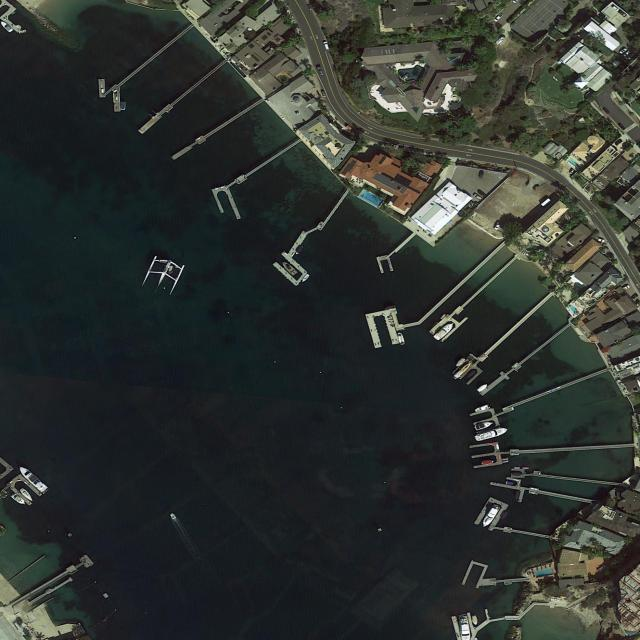ship: (138, 253, 188, 297), (17, 465, 49, 493), (474, 426, 509, 442), (480, 504, 501, 529), (433, 321, 456, 341), (281, 260, 298, 276), (19, 487, 35, 503), (11, 493, 27, 507), (474, 420, 494, 431), (0, 20, 14, 33), (474, 404, 490, 413), (465, 369, 478, 379), (454, 357, 467, 367), (477, 383, 488, 393), (294, 245, 305, 255), (499, 510, 509, 521), (397, 333, 406, 345), (301, 274, 310, 284), (629, 293, 639, 302), (514, 490, 522, 501), (471, 615, 479, 625), (384, 305, 396, 311), (168, 512, 177, 520), (482, 459, 494, 465), (617, 10, 627, 17), (611, 5, 620, 12), (621, 284, 630, 291), (510, 472, 521, 476), (15, 24, 23, 29), (18, 29, 26, 34)
small-vehicle: (493, 13, 504, 23), (476, 189, 487, 198), (494, 220, 503, 231), (317, 66, 325, 77), (473, 193, 483, 201), (593, 237, 605, 243), (617, 123, 626, 131), (323, 41, 330, 50), (320, 89, 327, 98), (622, 50, 631, 57), (569, 168, 577, 175), (306, 4, 313, 12), (619, 48, 628, 54), (603, 107, 610, 114), (478, 170, 484, 178)
